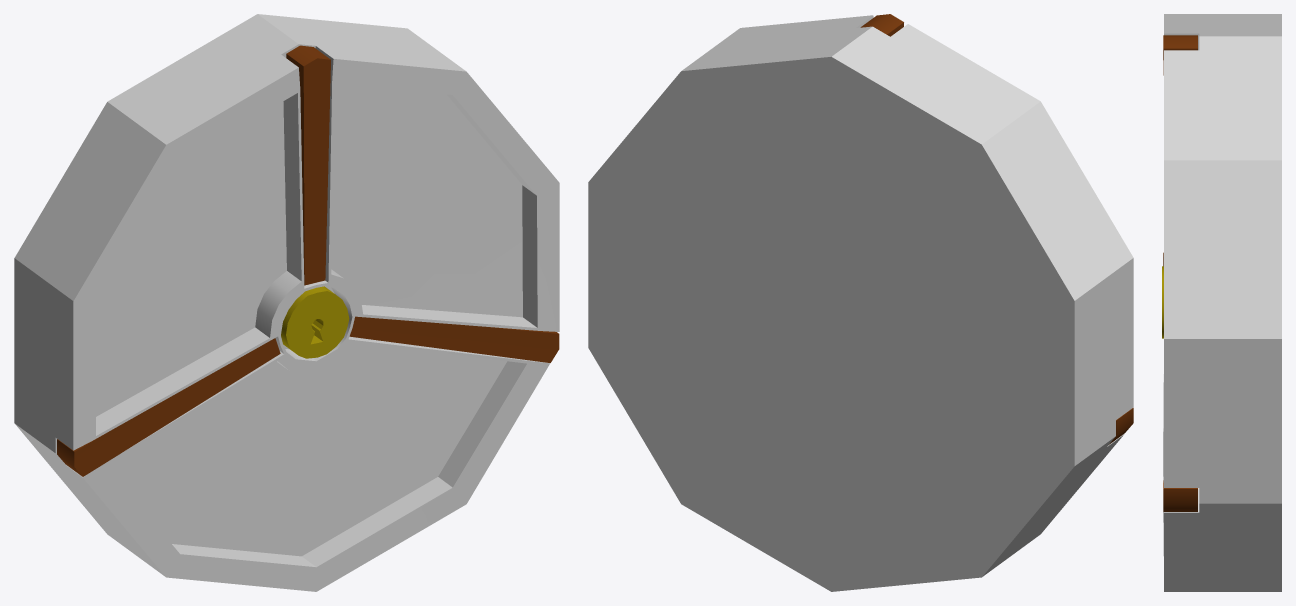
File: Puerta corregido.fbx
The picture shows the model from 3 angles, left to right: view 1: azimuth 30°, elevation 25°; view 2: azimuth 150°, elevation 25°; view 3: azimuth 270°, elevation 25°; orthographic projection.
Parts seen in each view (by area): view 1: puerta, Tranca_1, Tranca_3, Tranca_2, Cerradura; view 2: puerta; view 3: puerta, Tranca_2, Tranca_1.
Boxes of the visible parts, left/top/right/bottom form: puerta: left=14, top=14, right=559, bottom=591; Tranca_1: left=286, top=45, right=330, bottom=285; Tranca_3: left=57, top=338, right=280, bottom=476; Tranca_2: left=349, top=316, right=559, bottom=362; Cerradura: left=281, top=286, right=349, bottom=358; puerta: left=588, top=15, right=1133, bottom=591; puerta: left=1163, top=14, right=1281, bottom=591; Tranca_2: left=1163, top=480, right=1197, bottom=511; Tranca_1: left=1163, top=35, right=1197, bottom=75.
Bounding box in the file's own units: 95.11 × 100 × 20.35.
